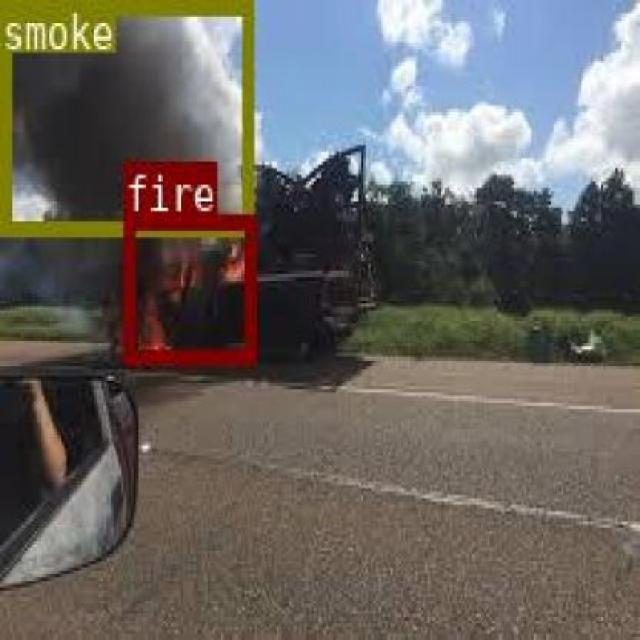Fire: (123, 212, 254, 360)
Smoke: (0, 0, 249, 231)
